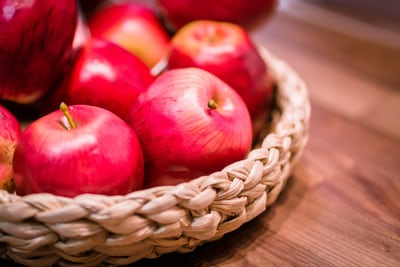apple: (127, 66, 252, 196), (10, 99, 146, 203), (168, 18, 273, 146), (1, 1, 78, 107), (63, 33, 156, 116), (85, 4, 169, 71)
